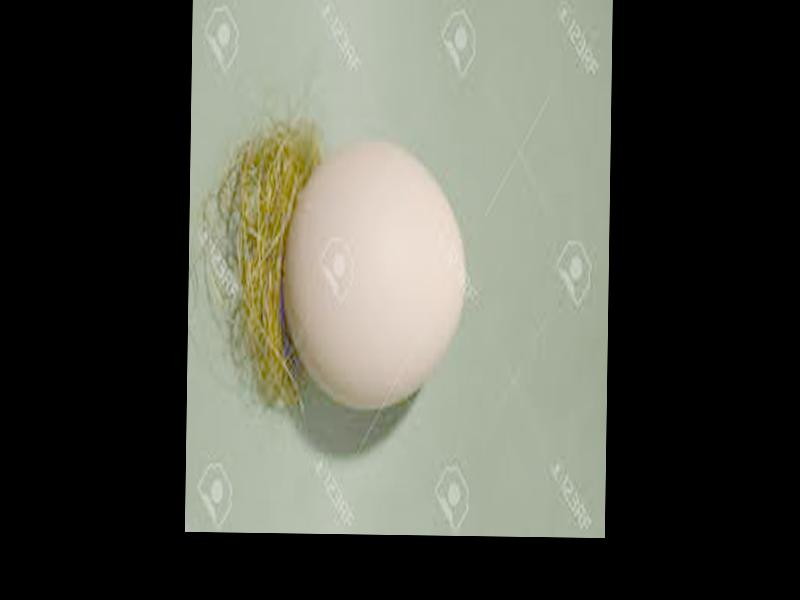Eggs: (284, 141, 468, 410)
